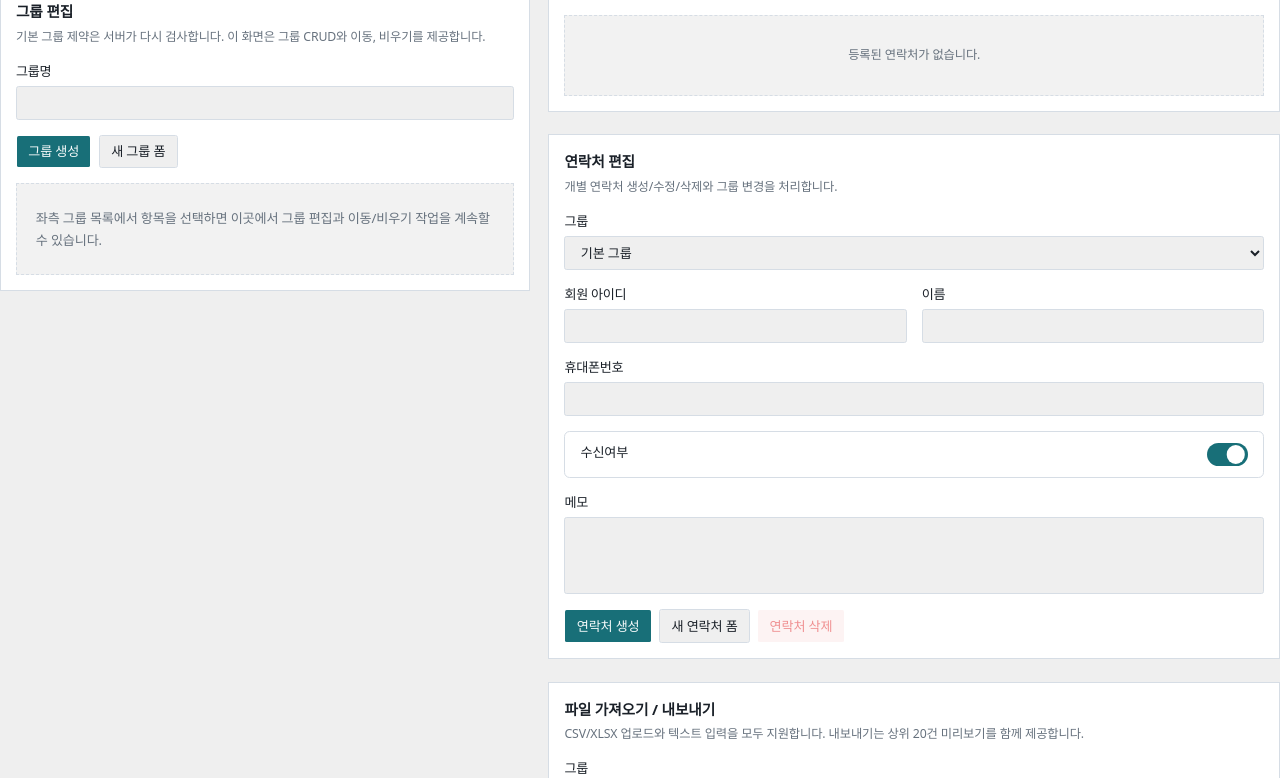
AdminSmsContactsPage › shows validation errors before creating a contact
(page scrolled)
Expected: the heading "연락처 편집" is shown, [564,151,635,171]
In the field labelled "휴대폰번호": (914, 399) [566,383,1263,415], type "010-12"
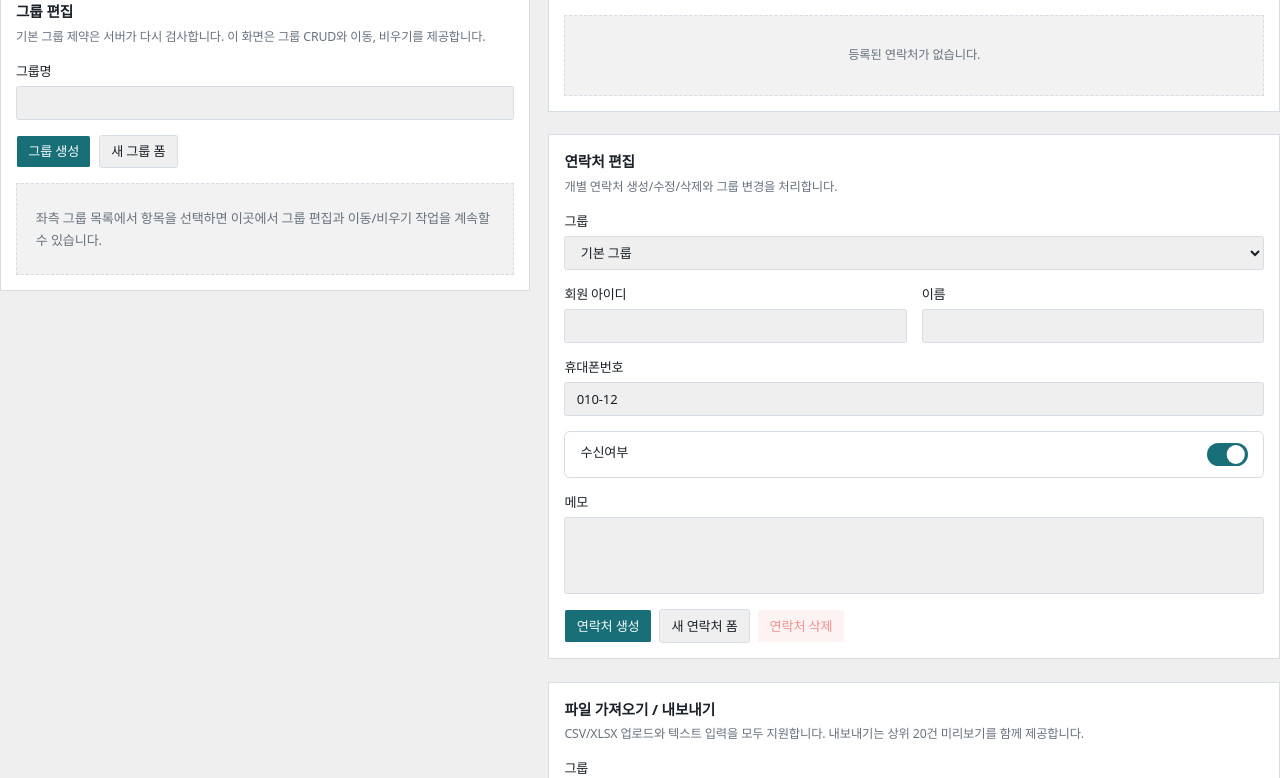
Click the button "연락처 생성": (608, 626) [564,609,652,643]
(page scrolled)
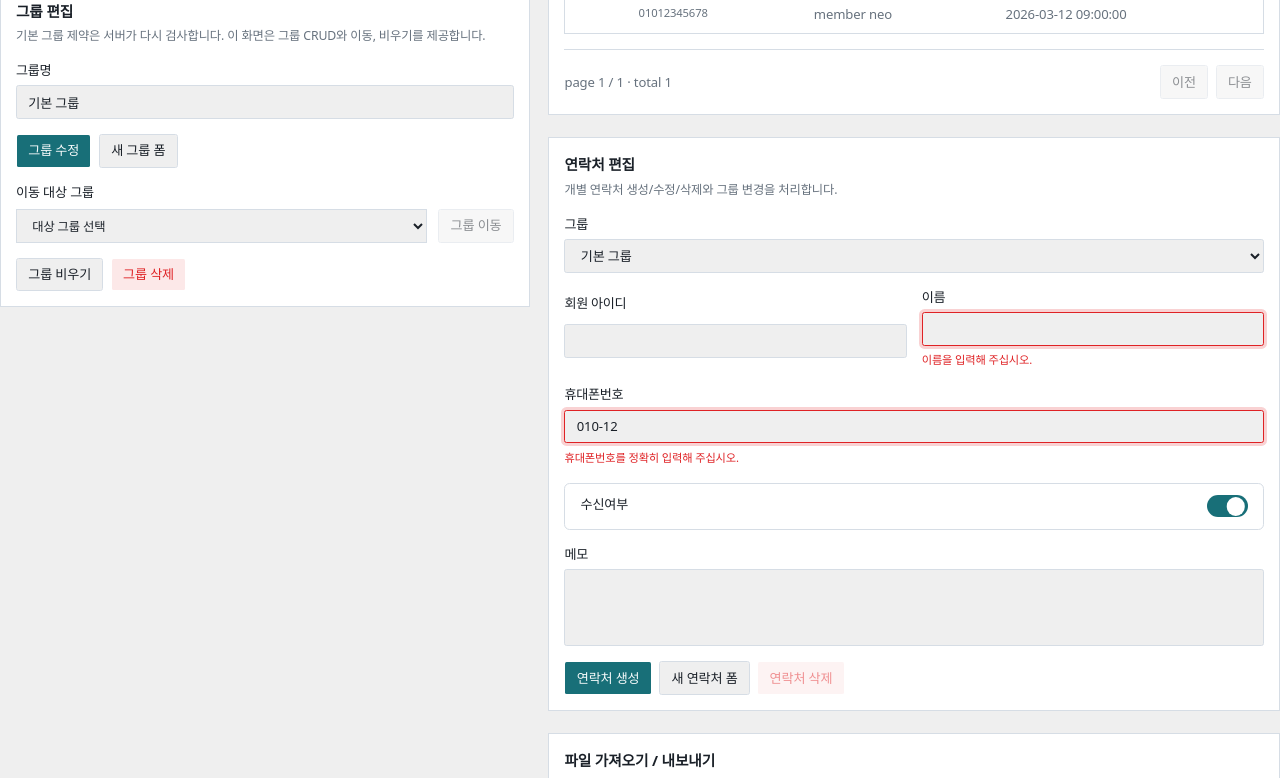
Expected: the text "이름을 입력해 주십시오." is shown, [922,352,1032,368]
Expected: the text "휴대폰번호를 정확히 입력해 주십시오." is shown, [564,450,739,465]
